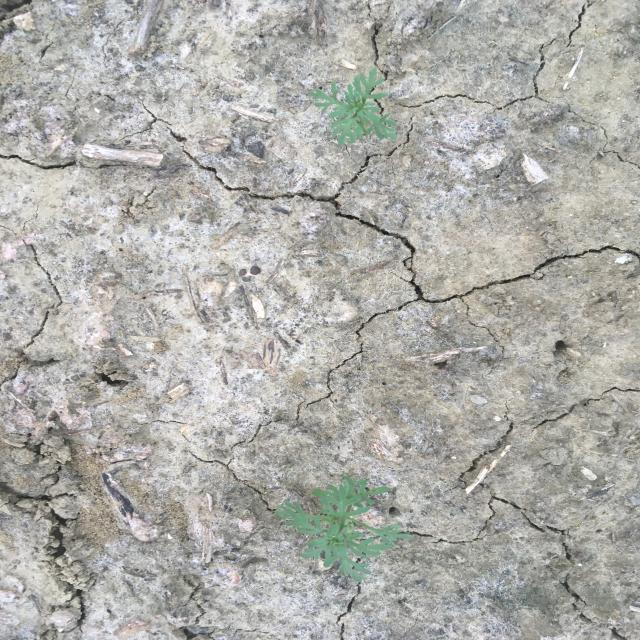Ragweed: (273, 474, 415, 584), (306, 66, 402, 149)
